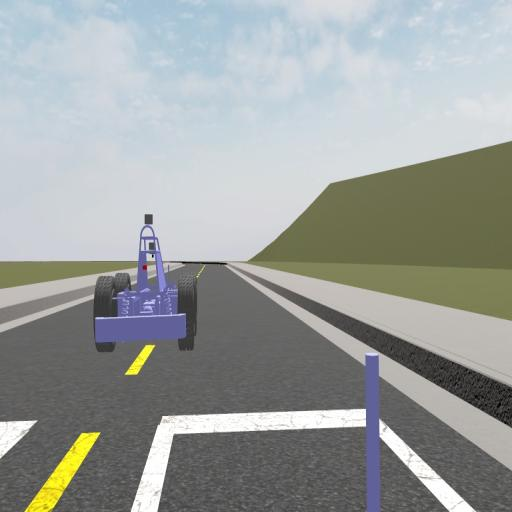ERP-42: (94, 212, 198, 353)
